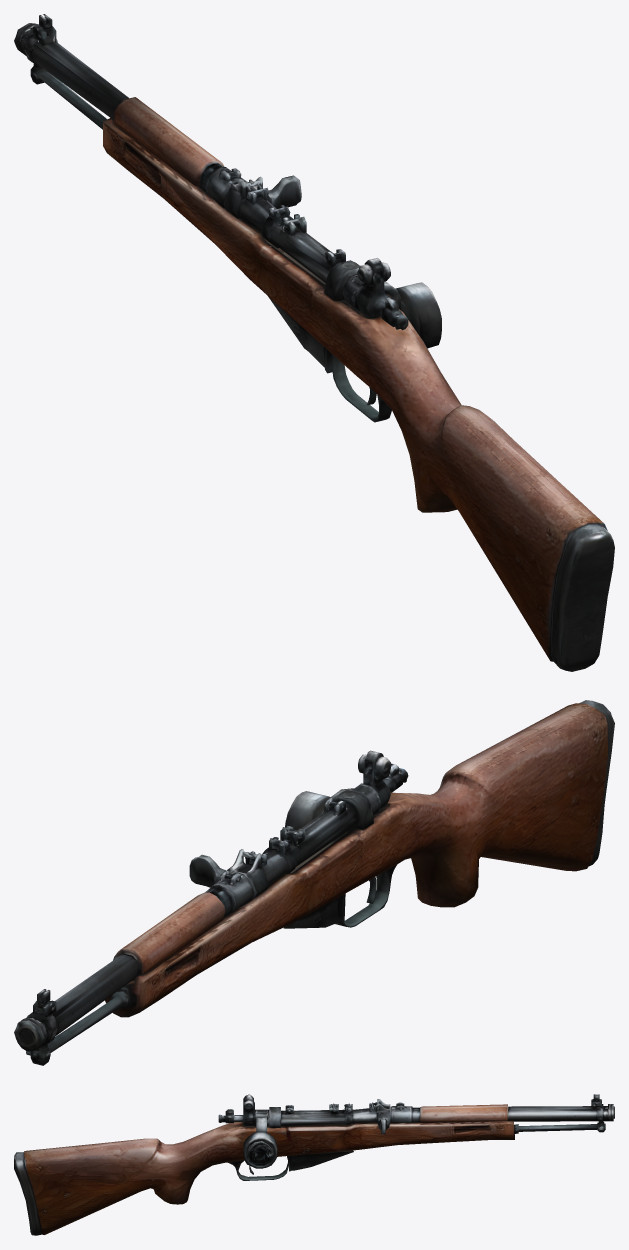
Rendered from M1941_Johnson_Rifle.glb.
3 renders of one model, top to bottom at view 1: azimuth 30°, elevation 25°; view 2: azimuth 150°, elevation 25°; view 3: azimuth 270°, elevation 25°, orthographic. The views are drawn at different scales.
Parts seen in each view (by area): view 1: tripo_node_03301ab1-d283-48d5-beae-3e027ce1836b; view 2: tripo_node_03301ab1-d283-48d5-beae-3e027ce1836b; view 3: tripo_node_03301ab1-d283-48d5-beae-3e027ce1836b.
Part boxes in pixels (<box>): tripo_node_03301ab1-d283-48d5-beae-3e027ce1836b: <box>14,14,614,671</box>; tripo_node_03301ab1-d283-48d5-beae-3e027ce1836b: <box>14,700,614,1065</box>; tripo_node_03301ab1-d283-48d5-beae-3e027ce1836b: <box>14,1094,614,1235</box>.
Bounding box in the file's own units: 0.0996 × 0.2559 × 0.998.
1 material, 1 textured.
